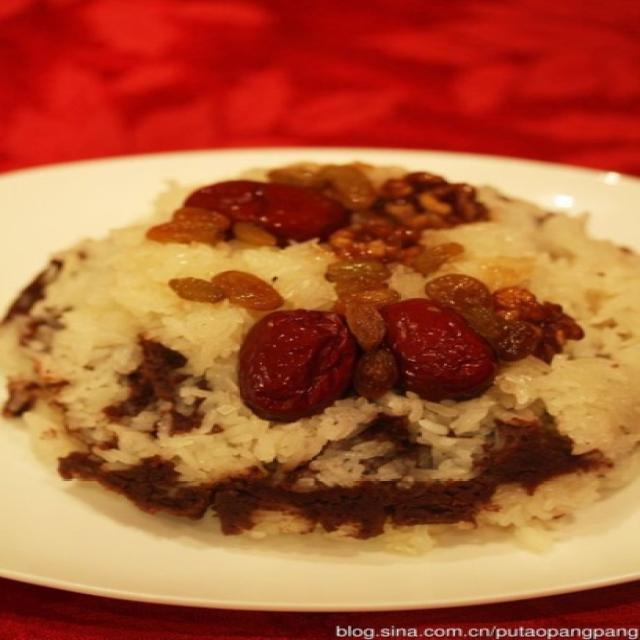米饭主食: (1, 141, 634, 599)
